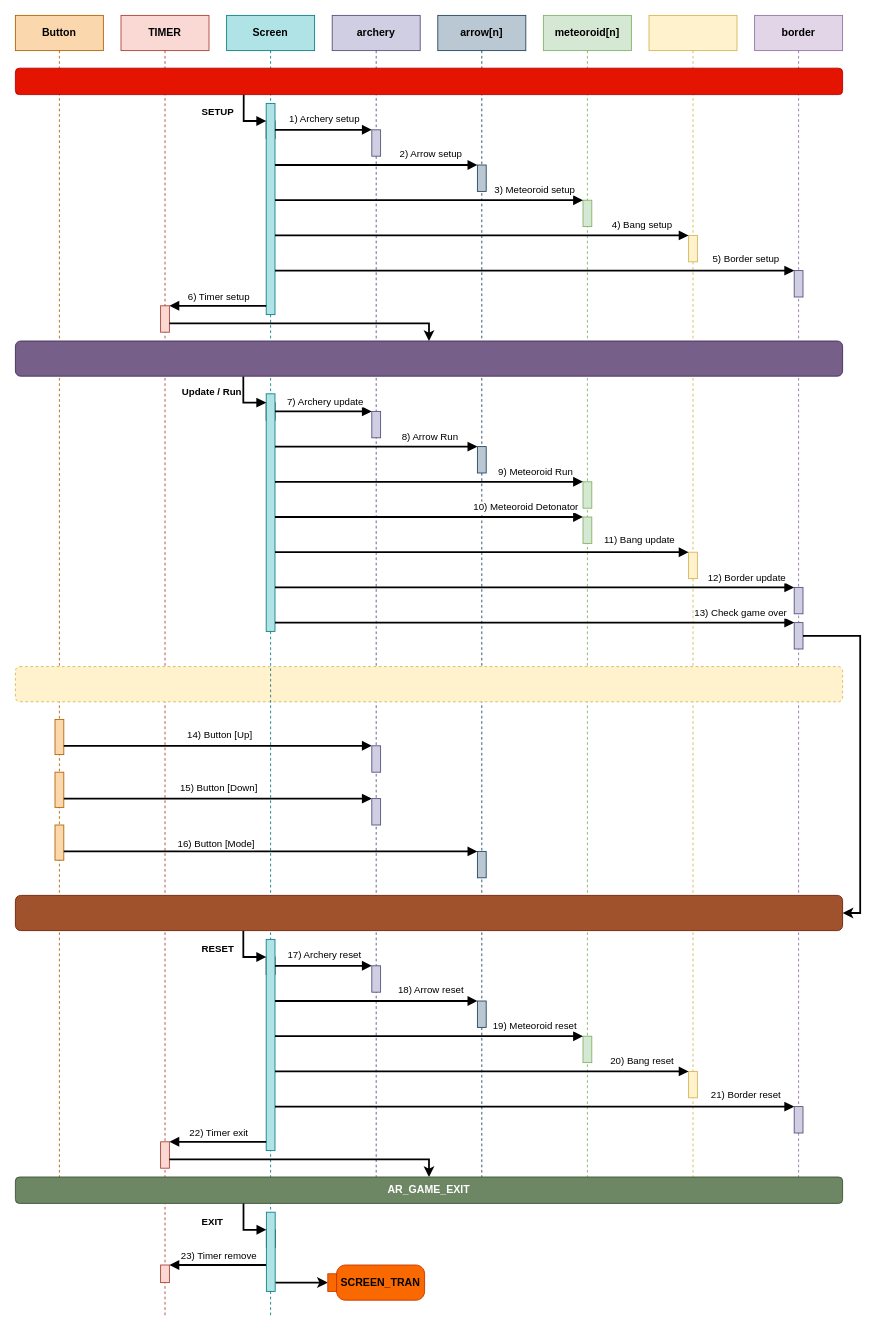
This 884x1333 diagram has some shape labels left out. The shapes that lost their labels are listed below. From the top down, each one's centre as x and y in pixels, then its label:
At pixel 429 81: "SCREEN_ENTRY".
At pixel 429 358: "AR_GAME_UPDATE_TIMER".
At pixel 692 600: "bang[n]".
At pixel 429 684: "BUTTON - ACTION".
At pixel 429 913: "AR_GAME_RESET".
